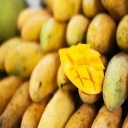mango: (58, 43, 104, 94)
